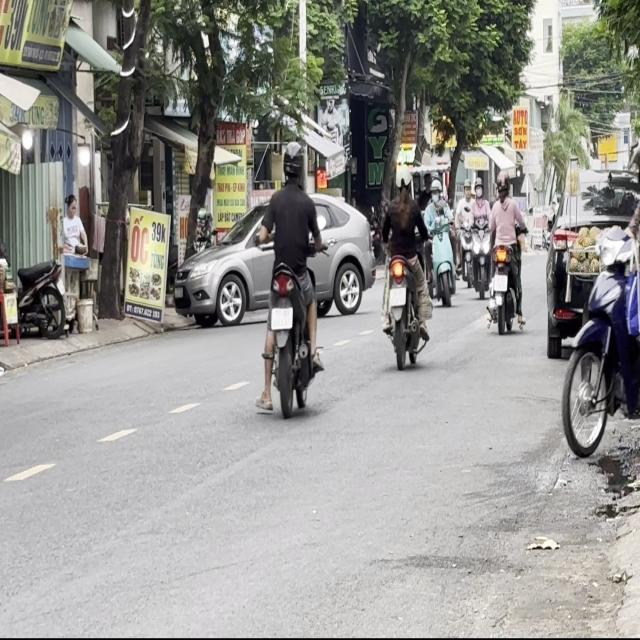helmet: (280, 140, 303, 184), (394, 163, 411, 196)
licenseplate: (257, 139, 325, 414), (378, 162, 431, 366)
nohelmet: (271, 306, 292, 326), (389, 287, 406, 306)
